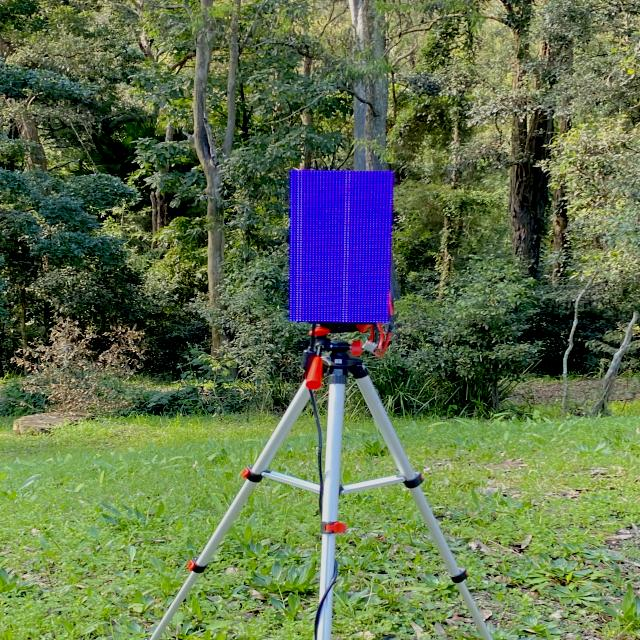matrix: (281, 162, 417, 333)
